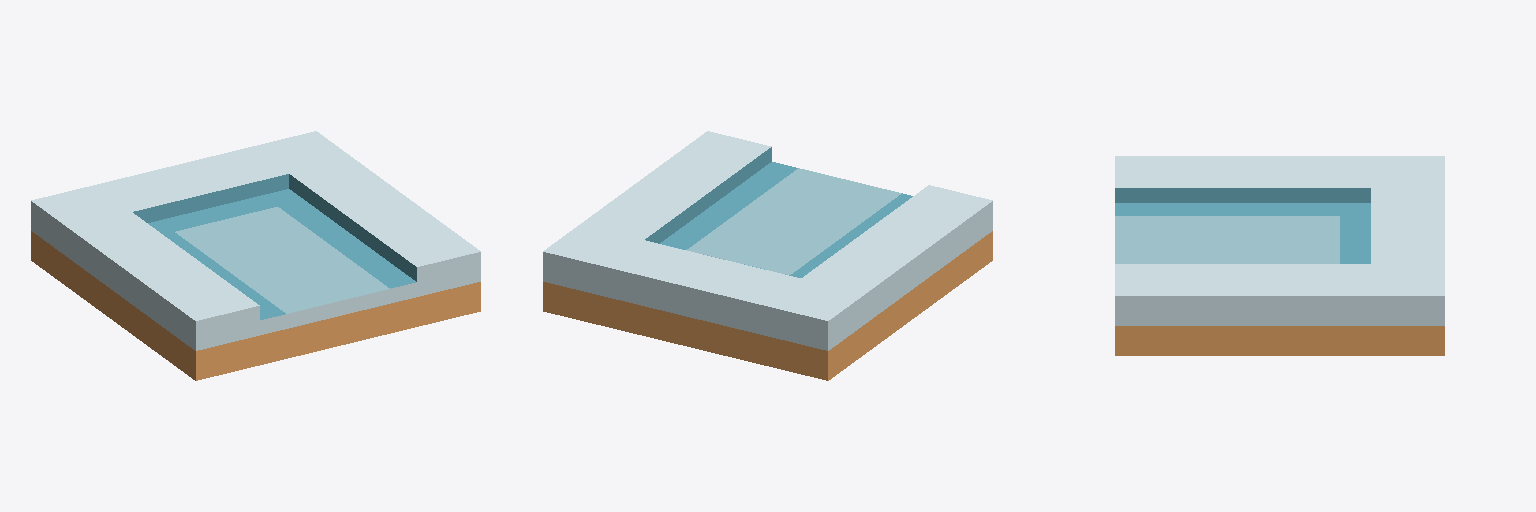
Rendered from snow_tile_end.obj.
The picture shows the model from 3 angles: view 1: azimuth 30°, elevation 25°; view 2: azimuth 150°, elevation 25°; view 3: azimuth 270°, elevation 25°; orthographic projection.
Parts seen in each view (by area): view 1: snow_tile_end; view 2: snow_tile_end; view 3: snow_tile_end.
Part boxes in pixels (bbox=[...]): snow_tile_end: bbox=[31, 131, 480, 380]; snow_tile_end: bbox=[543, 131, 992, 380]; snow_tile_end: bbox=[1115, 156, 1444, 355].
Size of the model in its own units: 1 by 0.2 by 1.